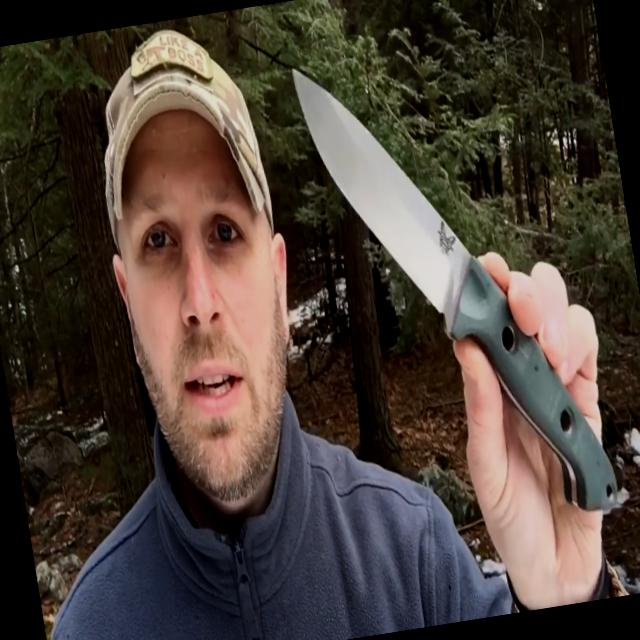knife: (286, 26, 564, 470)
